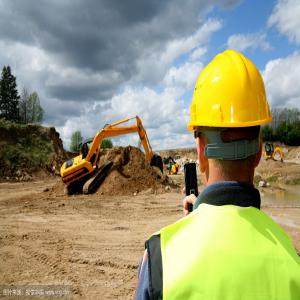yellow: (192, 49, 272, 189)
